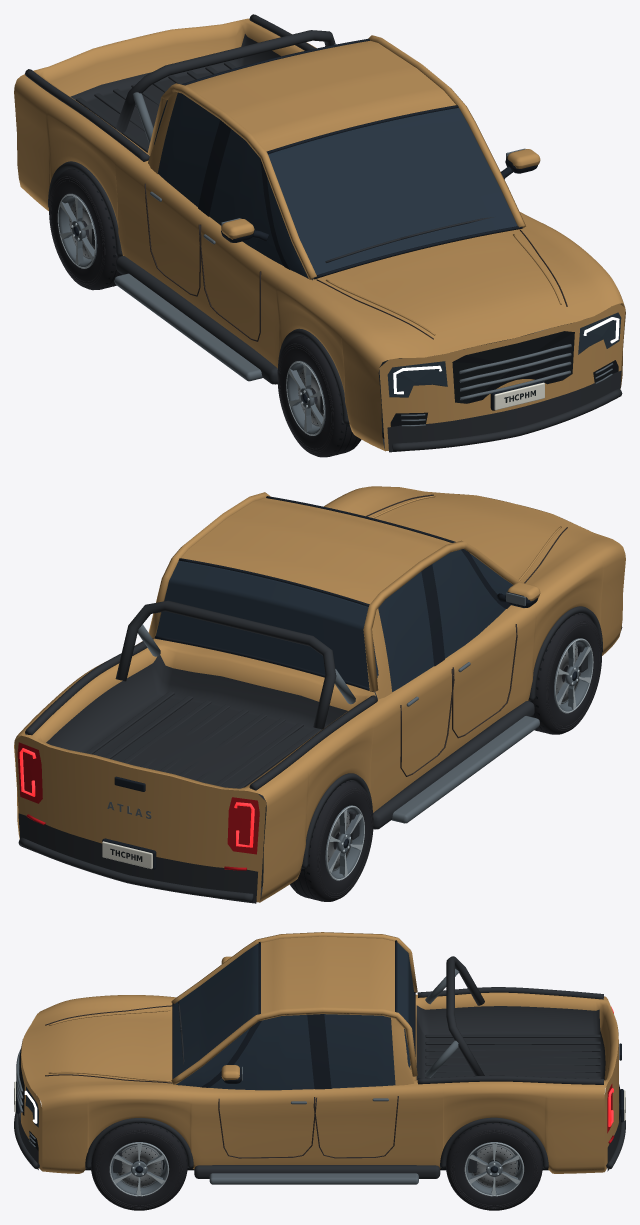
The model's file is atlas.glb.
3 views of the same model, one above another, from view 1: azimuth 30°, elevation 25°; view 2: azimuth 150°, elevation 25°; view 3: azimuth 270°, elevation 25° (orthographic). The views are drawn at different scales.
Visible parts, largest first — view 1: body, wheel_FR, wheel_RR; view 2: body, wheel_RR, wheel_FR; view 3: body, wheel_RL, wheel_FL.
Boxes of the visible parts, <box> form: body: <box>14,14,625,452</box>; wheel_FR: <box>277,335,361,457</box>; wheel_RR: <box>49,168,121,290</box>; body: <box>14,486,625,903</box>; wheel_RR: <box>290,780,373,901</box>; wheel_FR: <box>532,613,601,734</box>; body: <box>14,932,625,1184</box>; wheel_RL: <box>446,1123,542,1210</box>; wheel_FL: <box>91,1123,187,1210</box>.
Bounding box in the file's own units: 2.46 × 1.87 × 5.39.
